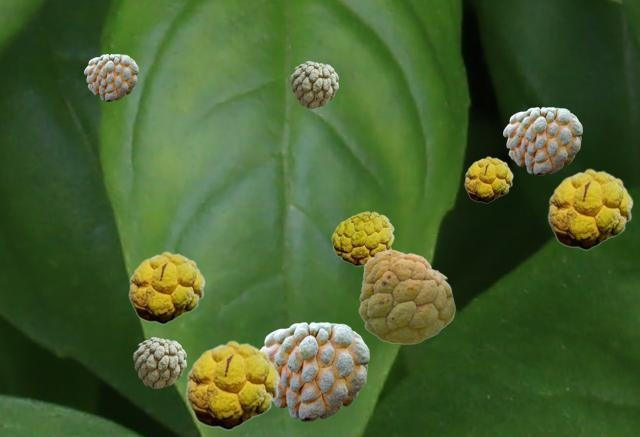atis: (260, 322, 368, 420), (358, 249, 454, 343), (185, 340, 279, 429), (547, 168, 632, 249), (128, 251, 204, 323), (503, 107, 581, 174), (331, 211, 393, 265), (133, 337, 185, 387), (84, 54, 137, 100), (464, 156, 512, 202), (290, 61, 337, 107)
